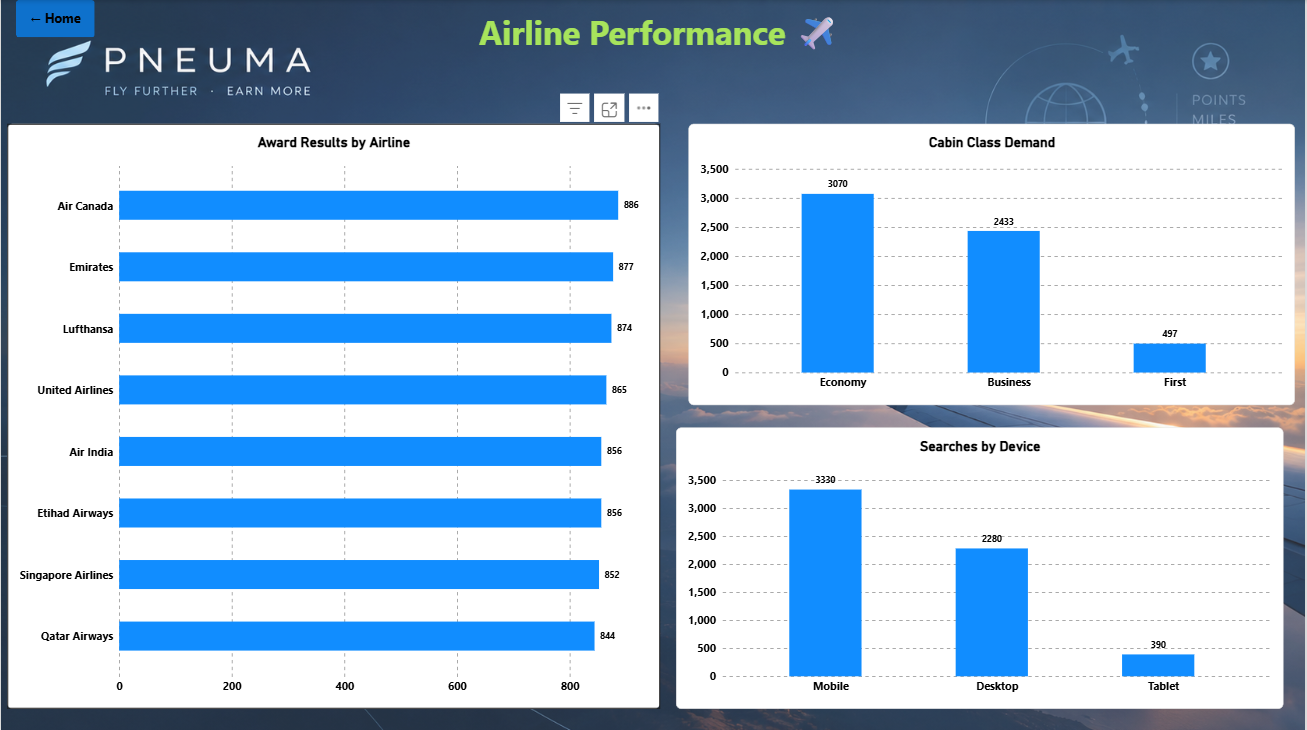

This screenshot's page, from the dashboard's own definition file:
{"tool":"powerbi","page":{"name":"Airline Performance ","canvas":[1920,1080],"ordinal":3},"visuals":[{"type":"textbox","box":[180.4,0,1577.3,99.4],"z":0},{"type":"clusteredBarChart","title":"Award Results by Airline","fields":{"Category":["award_results.airline"],"Y":["CountNonNull(award_results.result_id)"]},"box":[9.2,182.2,960.7,861.4],"z":1000},{"type":"clusteredColumnChart","title":"Cabin Class Demand","fields":{"Category":["searches.cabin"],"Y":["CountNonNull(searches.search_id)"]},"box":[1012.3,182.2,892.6,414.1],"z":2000},{"type":"clusteredColumnChart","title":"Searches by Device","fields":{"Category":["searches.device"],"Y":["CountNonNull(searches.search_id)"]},"box":[993.9,629.5,894.5,414.1],"z":3000},{"type":"actionButton","box":[22.1,0,116,55],"z":3001}]}

Visuals, with their boxes in screenshot pixels (x1, y1, x2, y2), scaled from the page's 1920x1080 canvas onto the 1307x730 screenshot:
textbox: l=123, t=0, r=1197, b=67
"Award Results by Airline" clusteredBarChart: l=6, t=123, r=660, b=705
"Cabin Class Demand" clusteredColumnChart: l=689, t=123, r=1297, b=403
"Searches by Device" clusteredColumnChart: l=677, t=425, r=1285, b=705
actionButton: l=15, t=0, r=94, b=37
